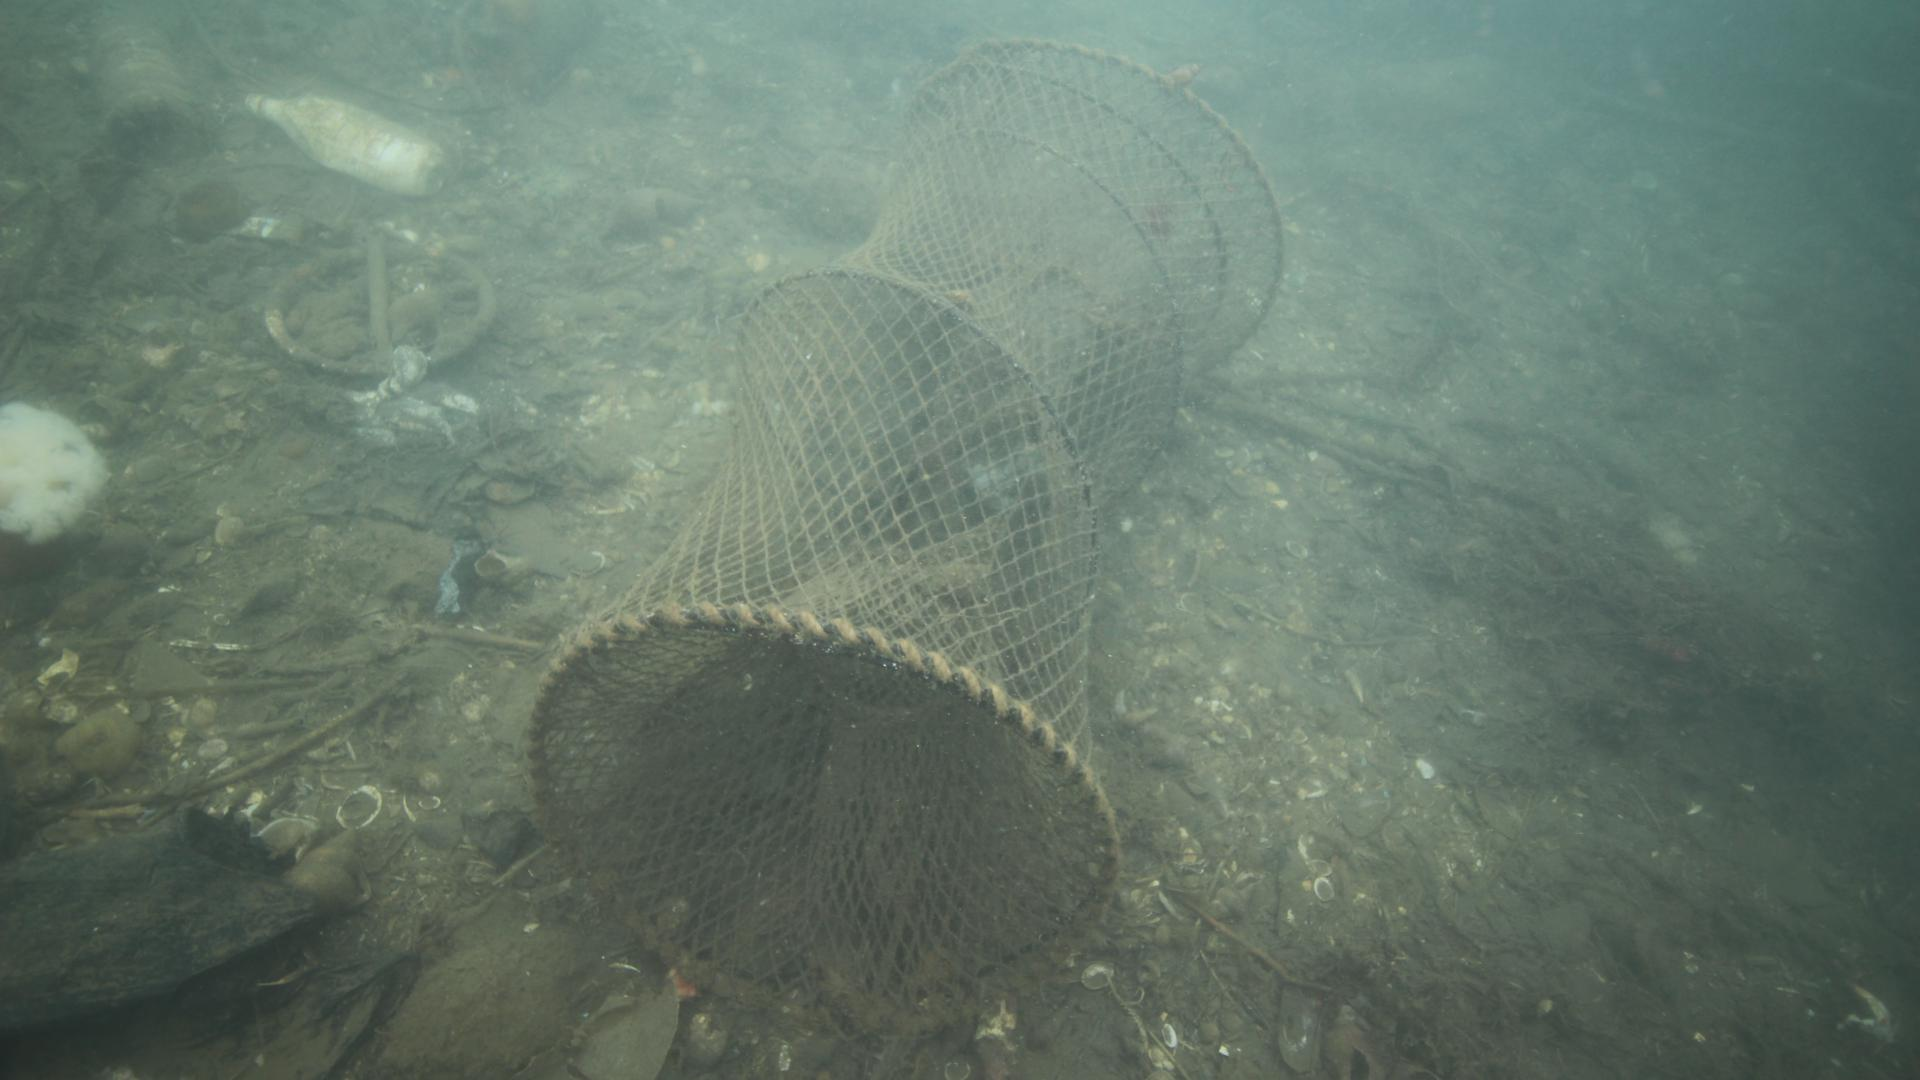spring fish trap: (527, 36, 1286, 1021)
